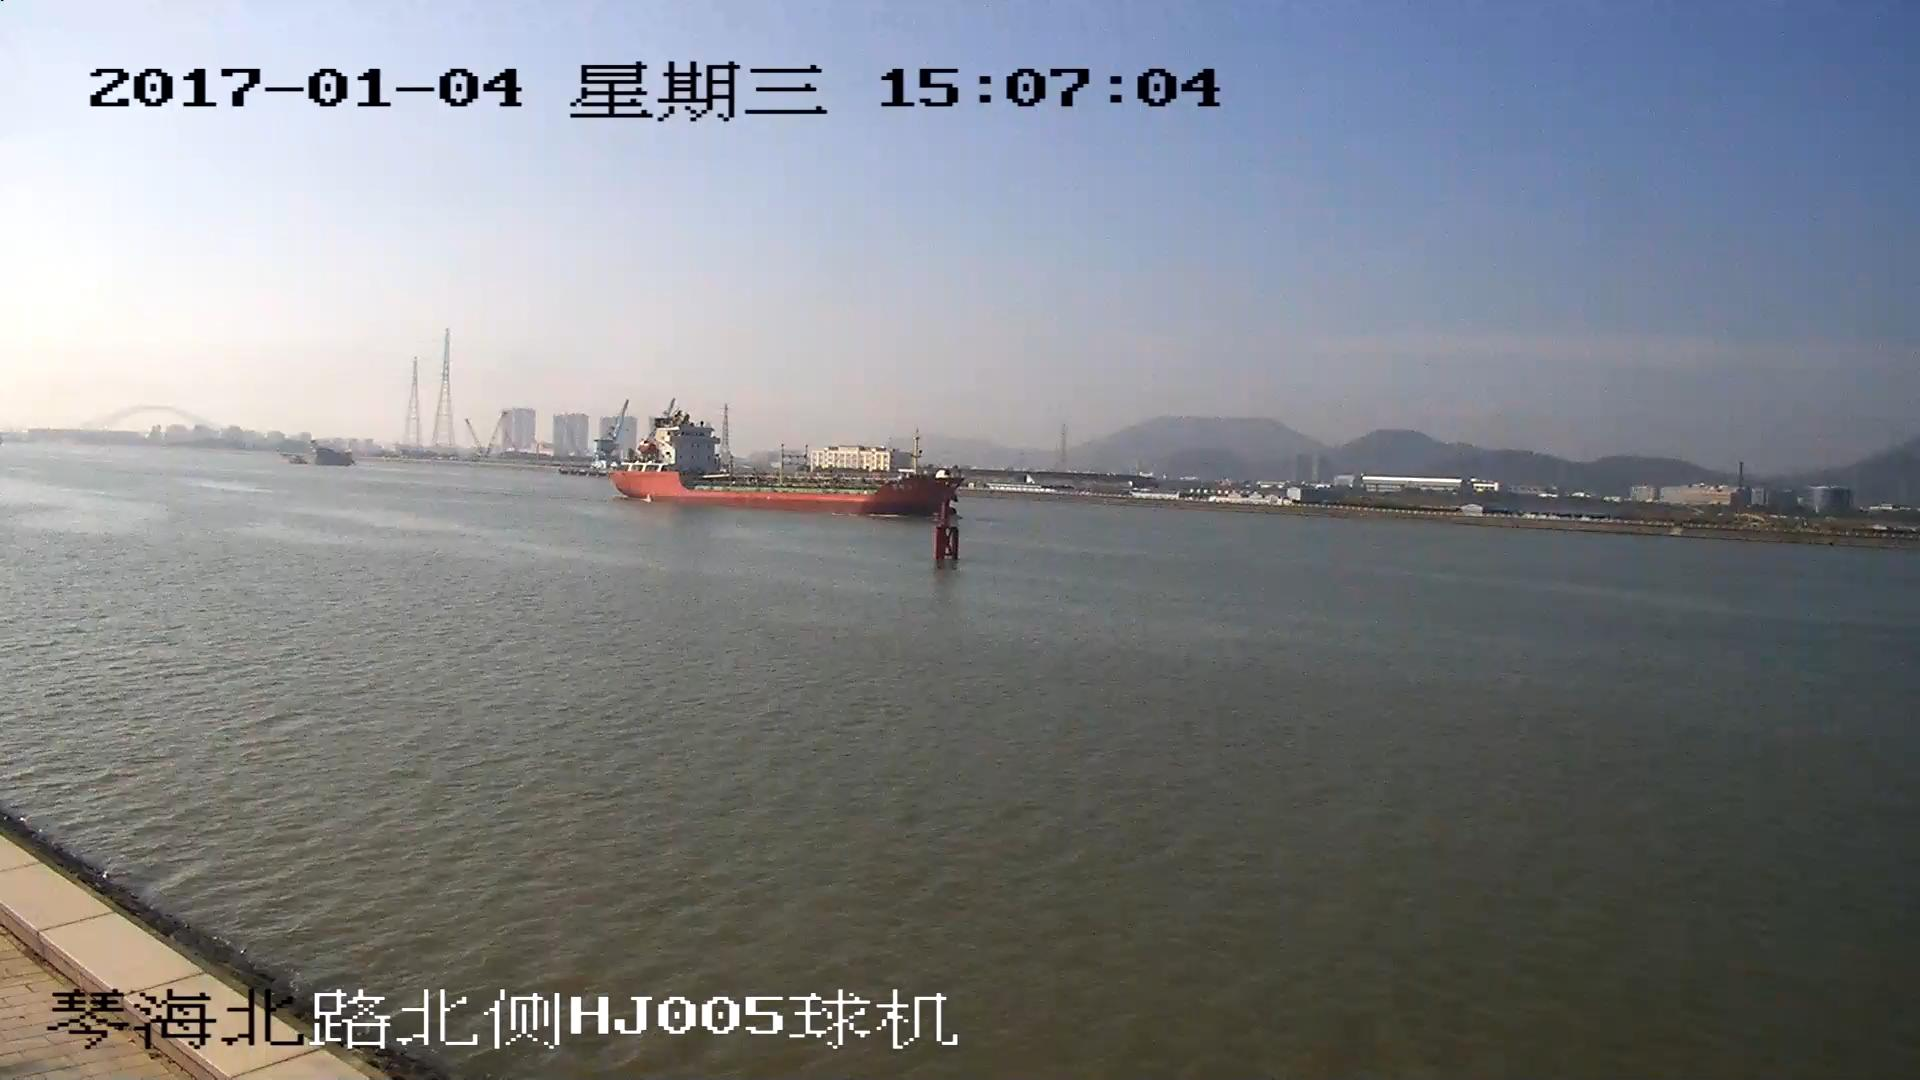general cargo ship: (610, 417, 958, 519)
